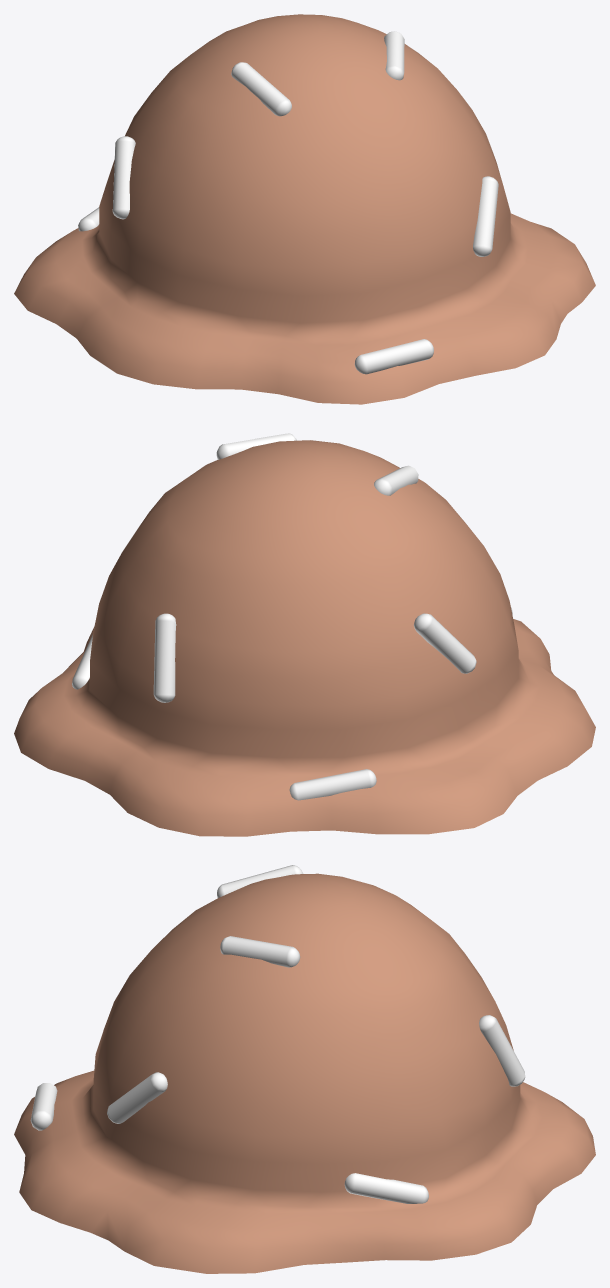
The model's file is SM_Icecream_Ball_yellow.fbx.
3 views of the same model, one above another, from view 1: azimuth 30°, elevation 25°; view 2: azimuth 150°, elevation 25°; view 3: azimuth 270°, elevation 25° (orthographic). The views are drawn at different scales.
Parts seen in each view (by area): view 1: SM_Icecream_Ball_yellow; view 2: SM_Icecream_Ball_yellow; view 3: SM_Icecream_Ball_yellow.
Part boxes in pixels (x1,y1,x2,y2): SM_Icecream_Ball_yellow: (14, 14, 595, 404); SM_Icecream_Ball_yellow: (14, 433, 595, 836); SM_Icecream_Ball_yellow: (14, 865, 595, 1273).
Bounding box in the file's own units: 420 × 217 × 435.
Materials: 1 (1 with a texture image).
